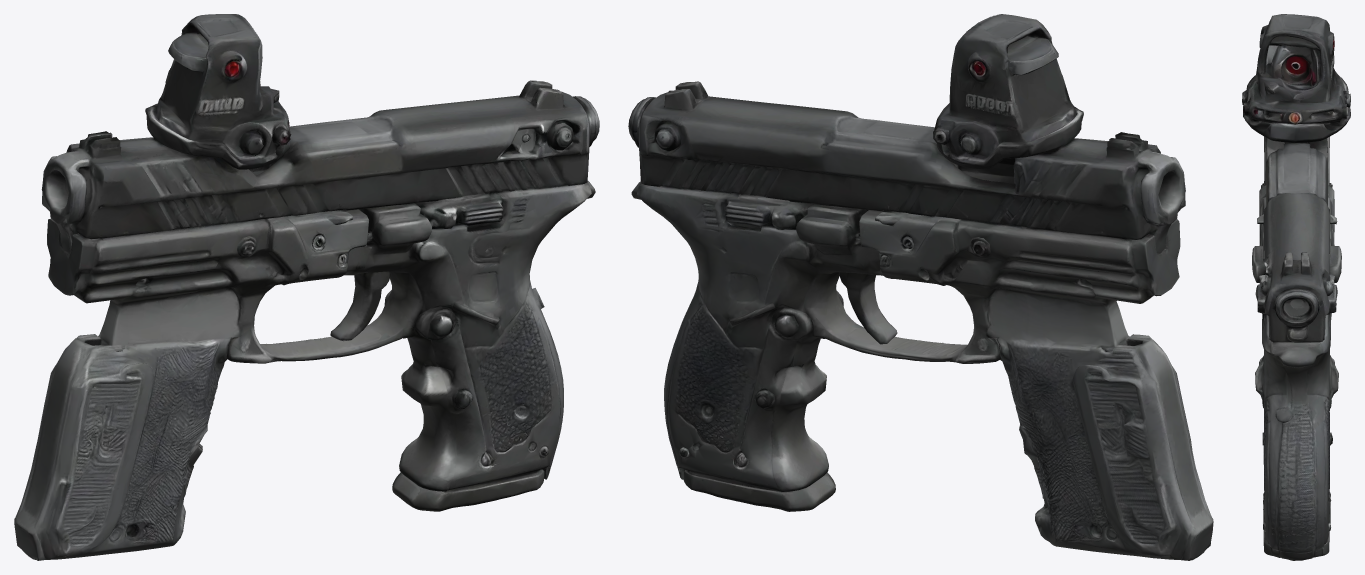
File: rn_macro.glb
3 views of the same model, side by side, from view 1: azimuth 30°, elevation 25°; view 2: azimuth 150°, elevation 25°; view 3: azimuth 270°, elevation 25° (orthographic). The views are drawn at different scales.
Parts seen in each view (by area): view 1: tripo_node_194da252-5c8d-49d3-9336-eac2c7350854; view 2: tripo_node_194da252-5c8d-49d3-9336-eac2c7350854; view 3: tripo_node_194da252-5c8d-49d3-9336-eac2c7350854.
Boxes of the visible parts, left/top/right/bottom form: tripo_node_194da252-5c8d-49d3-9336-eac2c7350854: left=14, top=14, right=599, bottom=560; tripo_node_194da252-5c8d-49d3-9336-eac2c7350854: left=628, top=14, right=1213, bottom=560; tripo_node_194da252-5c8d-49d3-9336-eac2c7350854: left=1242, top=14, right=1350, bottom=560.
Bounding box in the file's own units: 0.9816 × 0.8634 × 0.204.
1 material, 1 textured.
